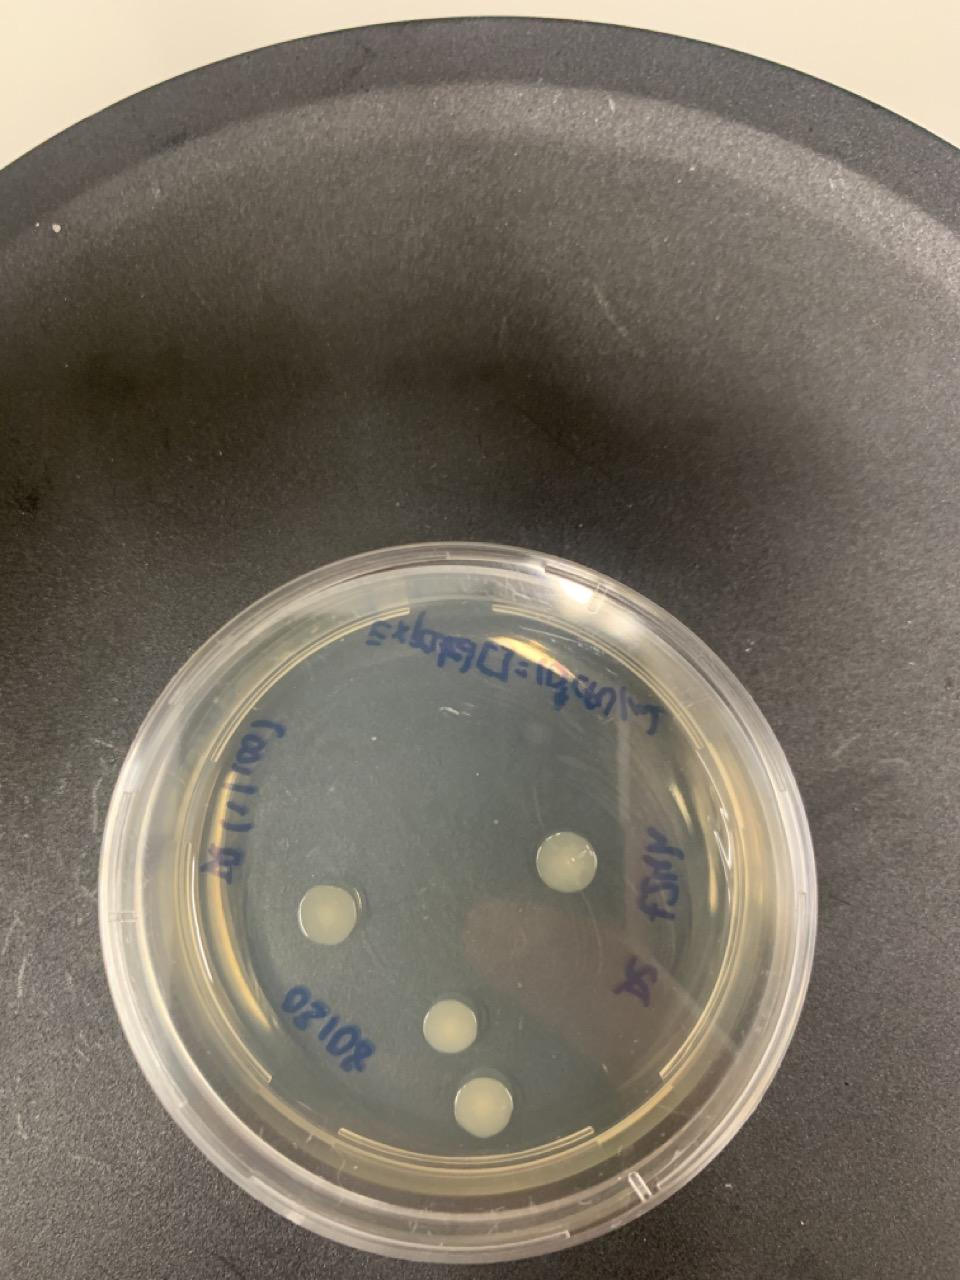colony: (294, 879, 361, 949), (451, 1072, 517, 1142), (534, 830, 599, 896), (420, 995, 480, 1056)
